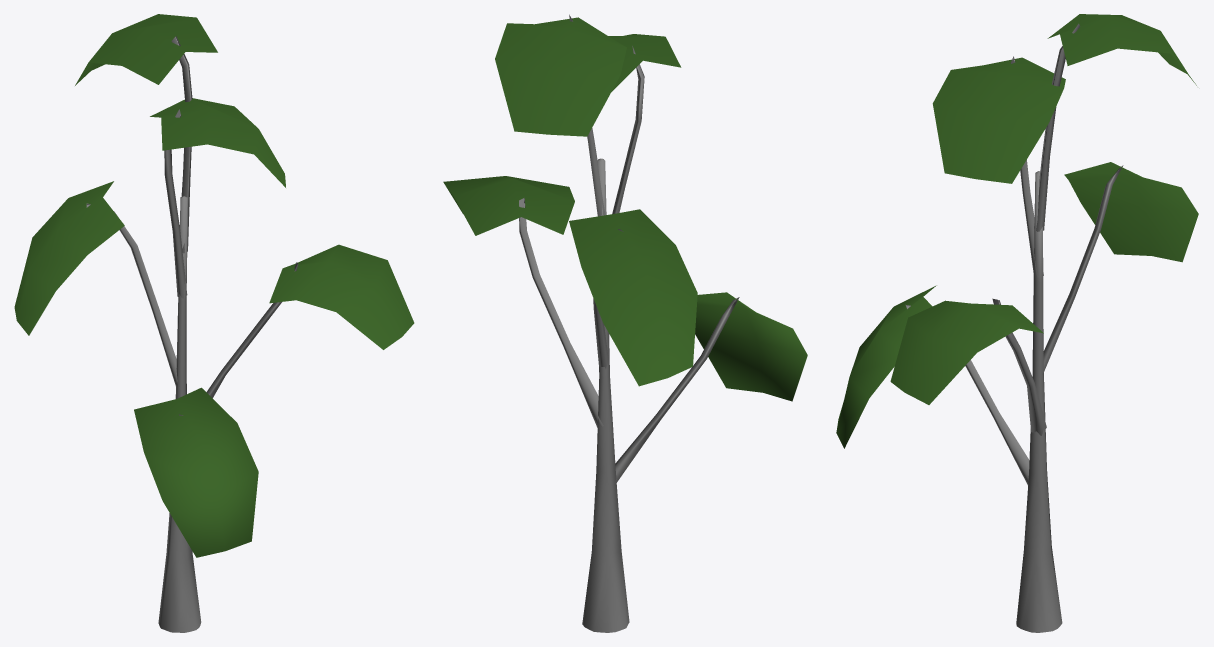
The model's file is SM_plant_tropical_small_02.fbx.
3 views of the same model, side by side, from view 1: azimuth 30°, elevation 25°; view 2: azimuth 150°, elevation 25°; view 3: azimuth 270°, elevation 25° (orthographic). The views are drawn at different scales.
Visible parts, largest first — view 1: tree015; view 2: tree015; view 3: tree015.
Part boxes in pixels (<box>): tree015: <box>14,14,414,632</box>; tree015: <box>443,14,807,632</box>; tree015: <box>836,14,1198,632</box>.
Size of the model in its own units: 15.16 by 27.75 by 15.
